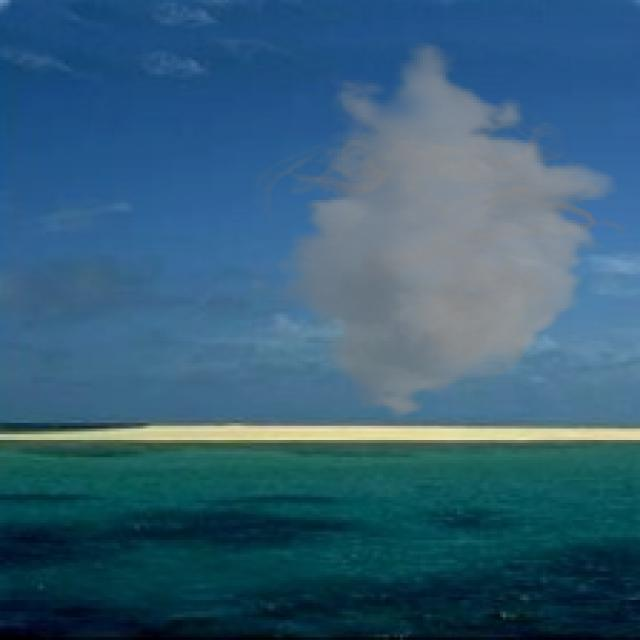smoke: (246, 40, 631, 420)
